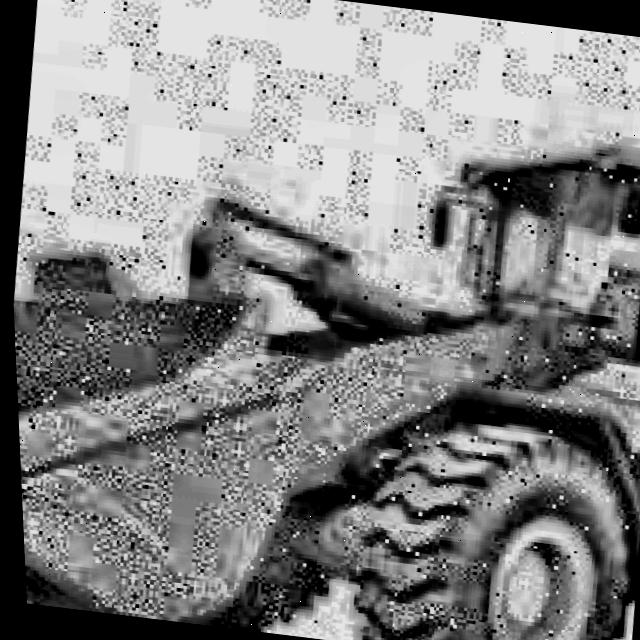buldozerpayloadergrader: (2, 48, 640, 640)
